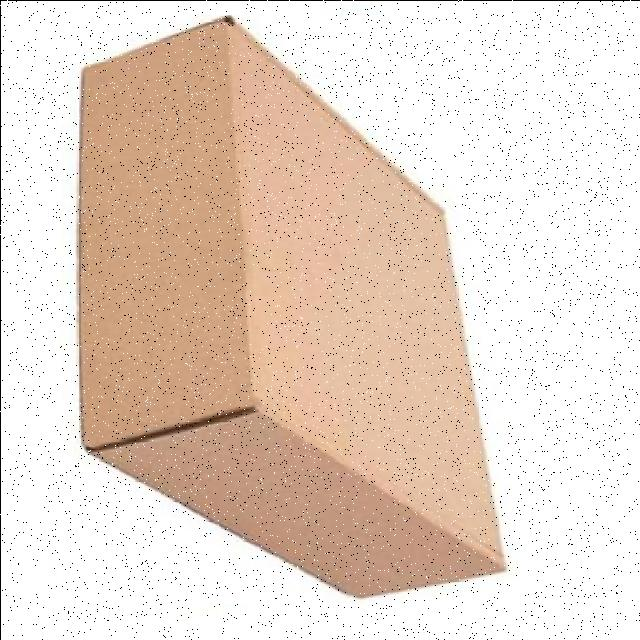normal: (57, 14, 520, 603)
